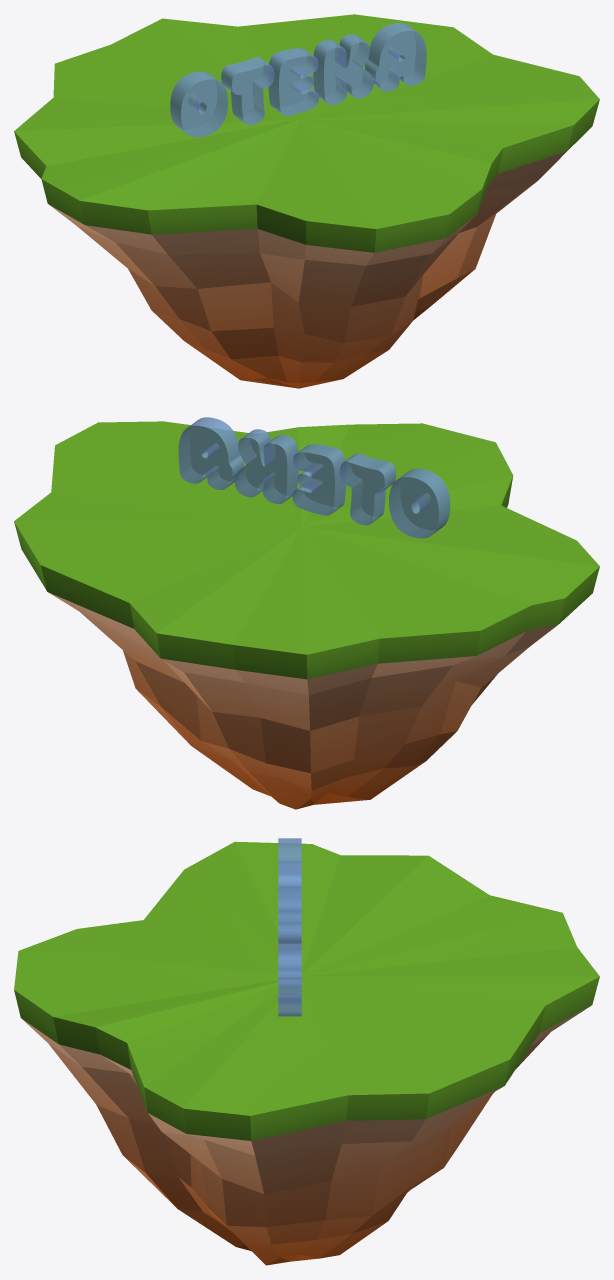
File: island with text.glb
The picture shows the model from 3 angles, top to bottom: view 1: azimuth 30°, elevation 25°; view 2: azimuth 150°, elevation 25°; view 3: azimuth 270°, elevation 25°; orthographic projection. The views are drawn at different scales.
Visible parts, largest first — view 1: Grass, Base, Text; view 2: Grass, Base, Text; view 3: Grass, Base, Text.
Part boxes in pixels (bbox=[...]): Grass: bbox=[14, 14, 599, 252]; Base: bbox=[34, 151, 566, 388]; Text: bbox=[170, 23, 426, 137]; Grass: bbox=[14, 421, 599, 679]; Base: bbox=[49, 592, 558, 809]; Text: bbox=[178, 417, 450, 538]; Grass: bbox=[14, 841, 599, 1140]; Base: bbox=[21, 1006, 590, 1265]; Text: bbox=[278, 838, 301, 1016].
Size of the model in its own units: 5.5 by 3.47 by 5.03.
Materials: 3 (2 with a texture image).
